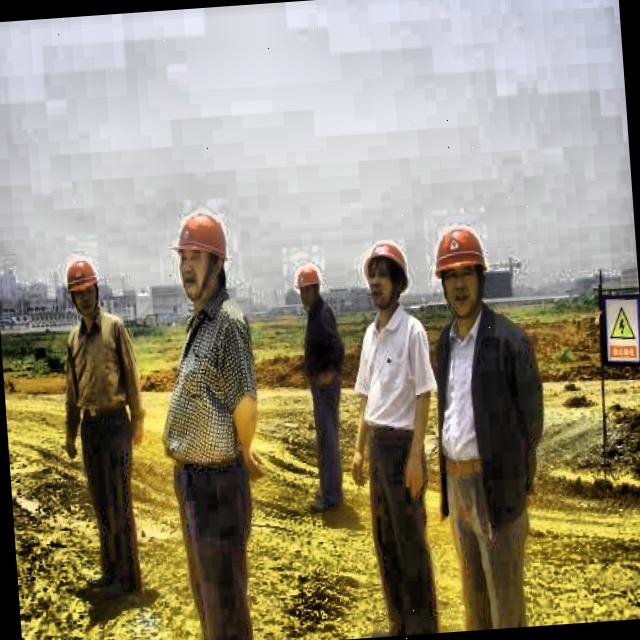helmet: (168, 207, 232, 310), (428, 220, 492, 321), (361, 236, 414, 316), (62, 252, 104, 328), (292, 257, 328, 317)
